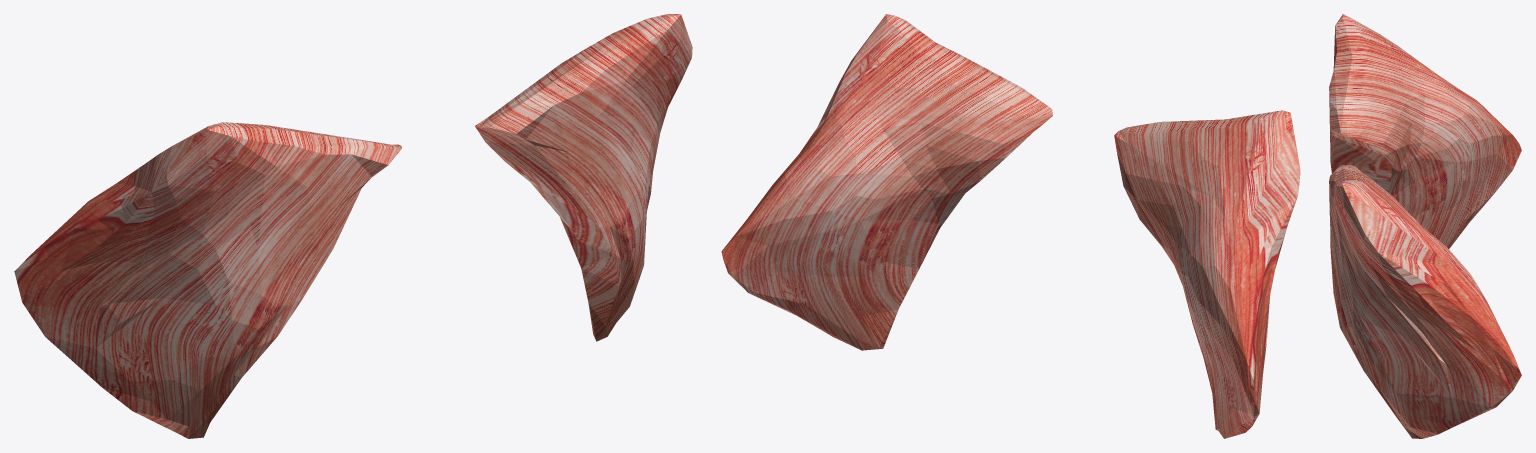
The model's file is Depresor_Labi_Inferioris.obj.
The picture shows the model from 3 angles, left to right: view 1: azimuth 30°, elevation 25°; view 2: azimuth 150°, elevation 25°; view 3: azimuth 270°, elevation 25°; orthographic projection. The views are drawn at different scales.
Parts seen in each view (by area): view 1: Musculos_Cabeza_1:Depressor_Labii_Inferioris1; view 2: Musculos_Cabeza_1:Depressor_Labii_Inferioris1; view 3: Musculos_Cabeza_1:Depressor_Labii_Inferioris1.
Boxes of the visible parts, x1=… form: Musculos_Cabeza_1:Depressor_Labii_Inferioris1: x1=14, y1=14, x2=692, y2=438; Musculos_Cabeza_1:Depressor_Labii_Inferioris1: x1=721, y1=14, x2=1300, y2=438; Musculos_Cabeza_1:Depressor_Labii_Inferioris1: x1=1329, y1=14, x2=1521, y2=438.
Size of the model in its own units: 0.2324 by 0.1249 by 0.0833.
Materials: 1 (1 with a texture image).
